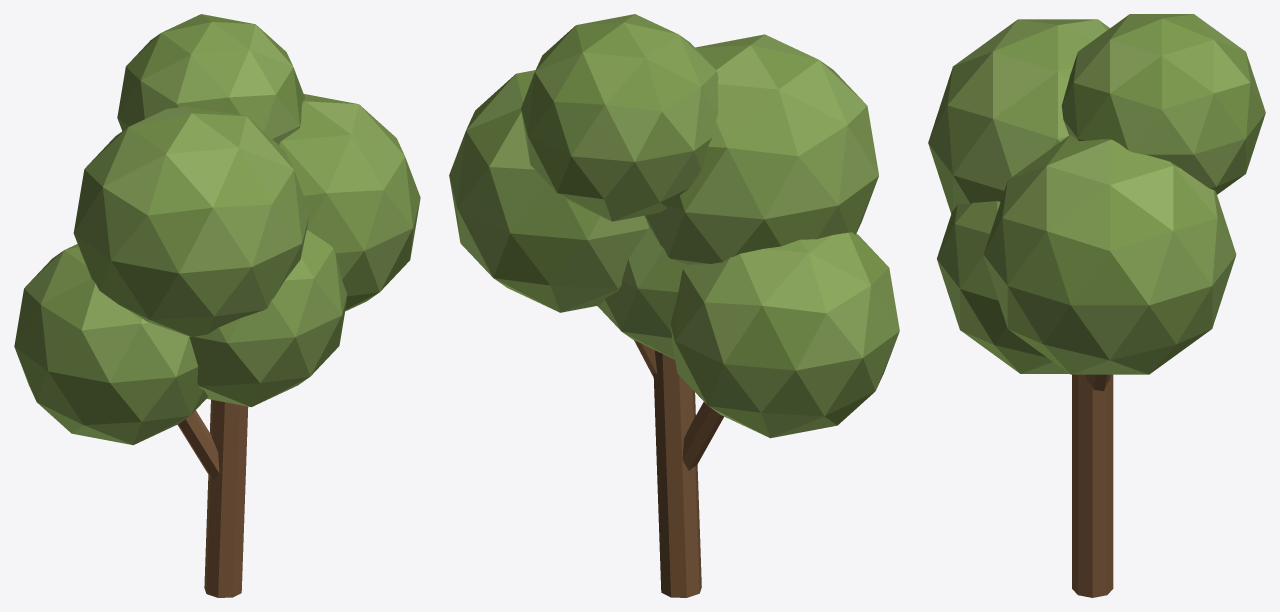
Rendered from tree.glb.
3 renders of one model, left to right at view 1: azimuth 30°, elevation 25°; view 2: azimuth 150°, elevation 25°; view 3: azimuth 270°, elevation 25°, orthographic. The views are drawn at different scales.
Visible parts, largest first — view 1: Body.013; view 2: Body.013; view 3: Body.013.
Boxes of the visible parts, x1,y1,x2,y2 form: Body.013: (14,14,420,597); Body.013: (449,14,899,597); Body.013: (928,14,1265,597).
Bounding box in the file's own units: 2.69 × 3.7 × 1.95.
